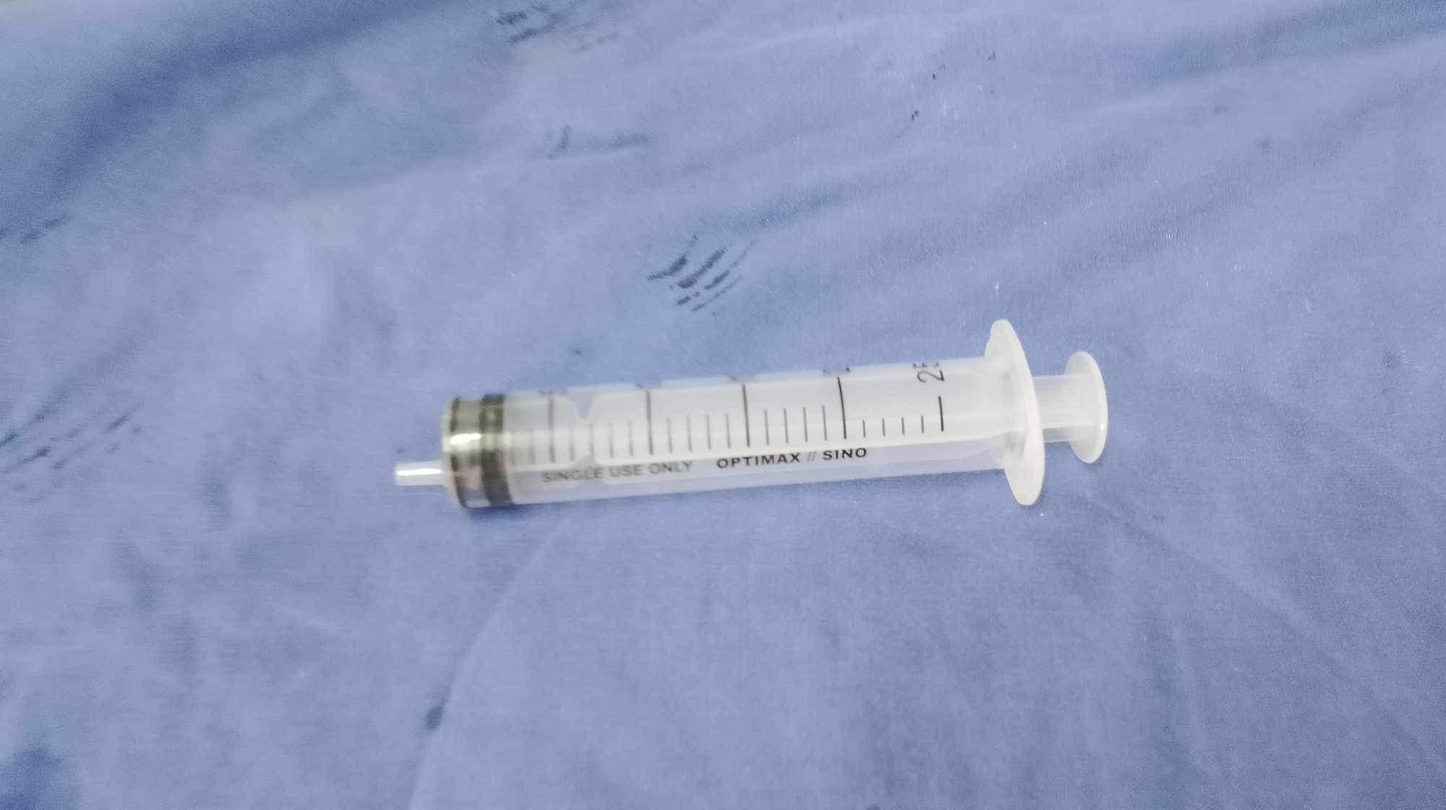General: (6, 4, 1439, 805)
Sharps: (393, 316, 1110, 513)
